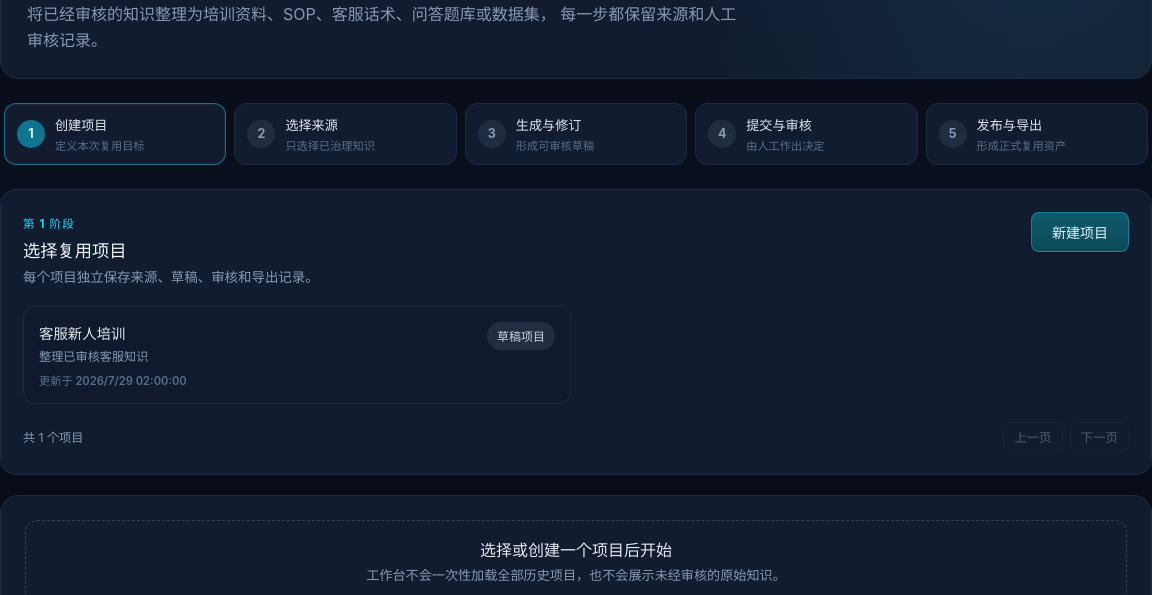
Test case: P3 project and governed source workspace › enforces activation checks and freezes source controls after activation
The width and height of the screenshot is (1152, 595).
Click the button "客服新人培训 整理已审核客服知识 草稿项目 更新于 2026/7/29 02:00:00". click: (82, 333)
box: [23, 306, 571, 404]
(page scrolled)
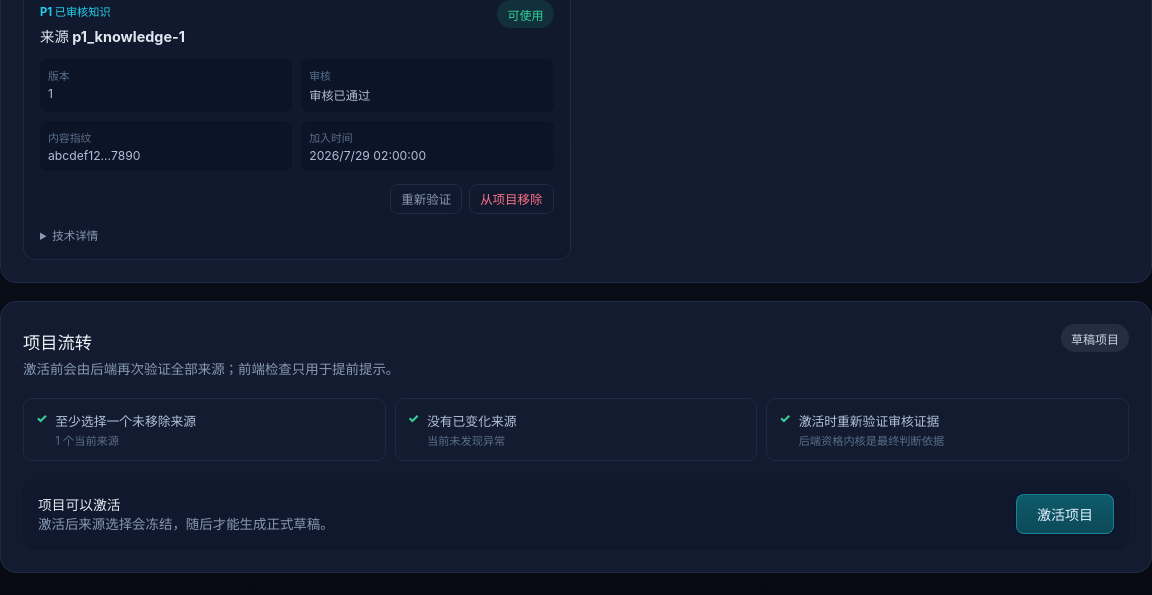
Result: the text "项目可以激活" is shown at [38, 497, 120, 513]
Click the button "激活项目". click: (1065, 514)
box: [1016, 494, 1114, 534]
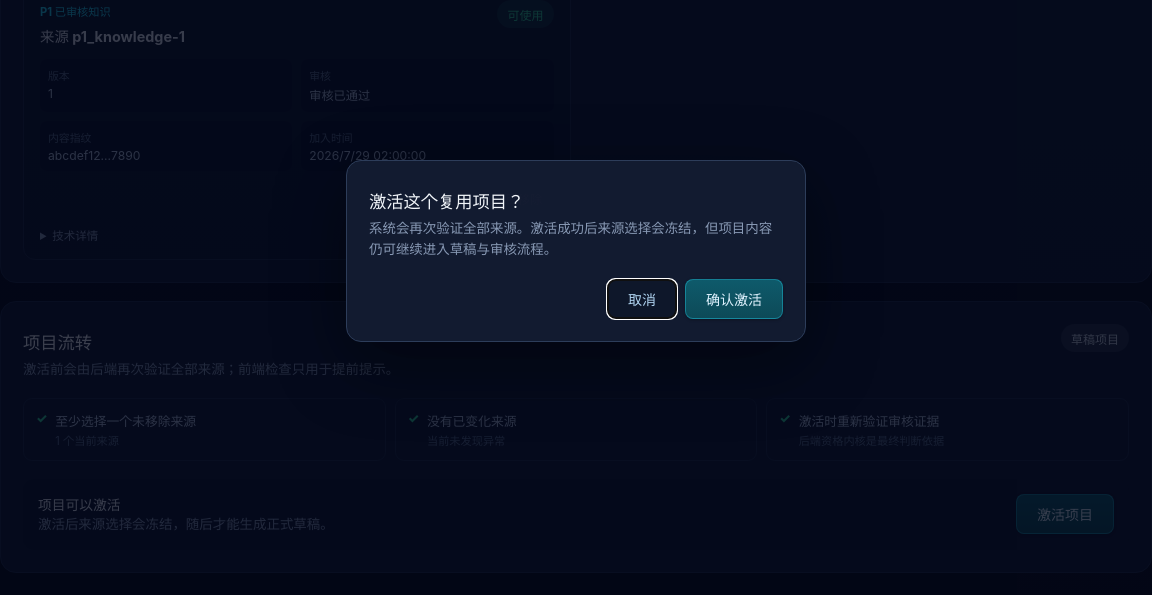
Click the button "确认激活". click: (734, 299)
box: [685, 279, 783, 319]
(page scrolled)
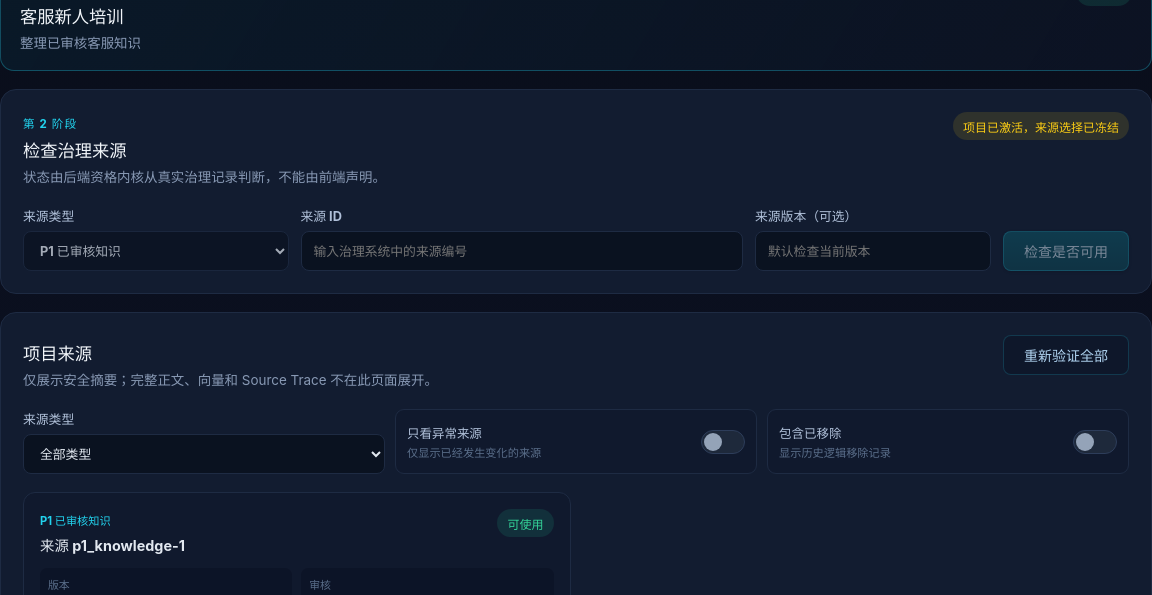
Result: the button "检查是否可用" is disabled at [1003, 231, 1129, 271]
Result: the button "从项目移除" is gone
